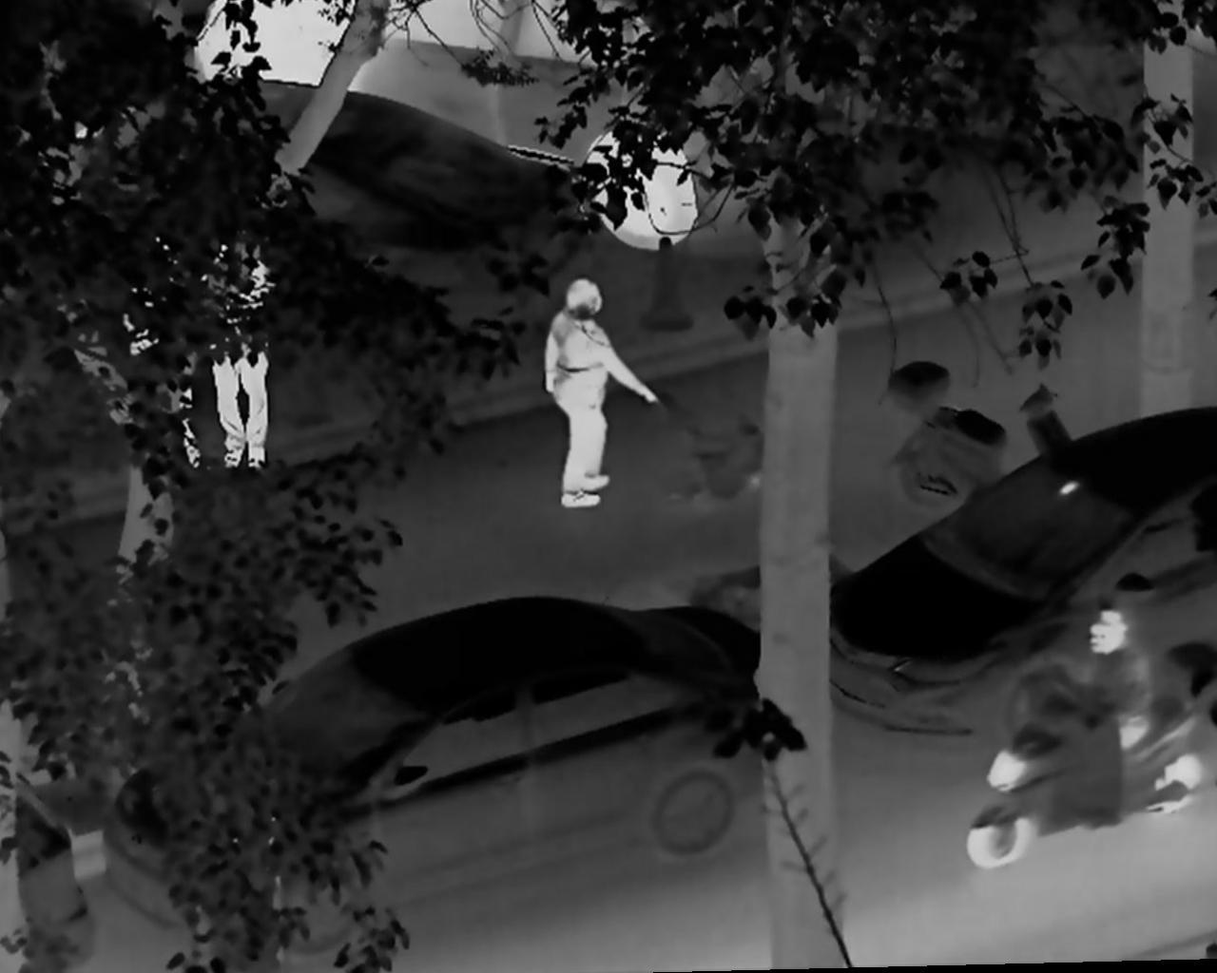person: (536, 275, 657, 519), (198, 217, 288, 475), (1061, 607, 1154, 763)
